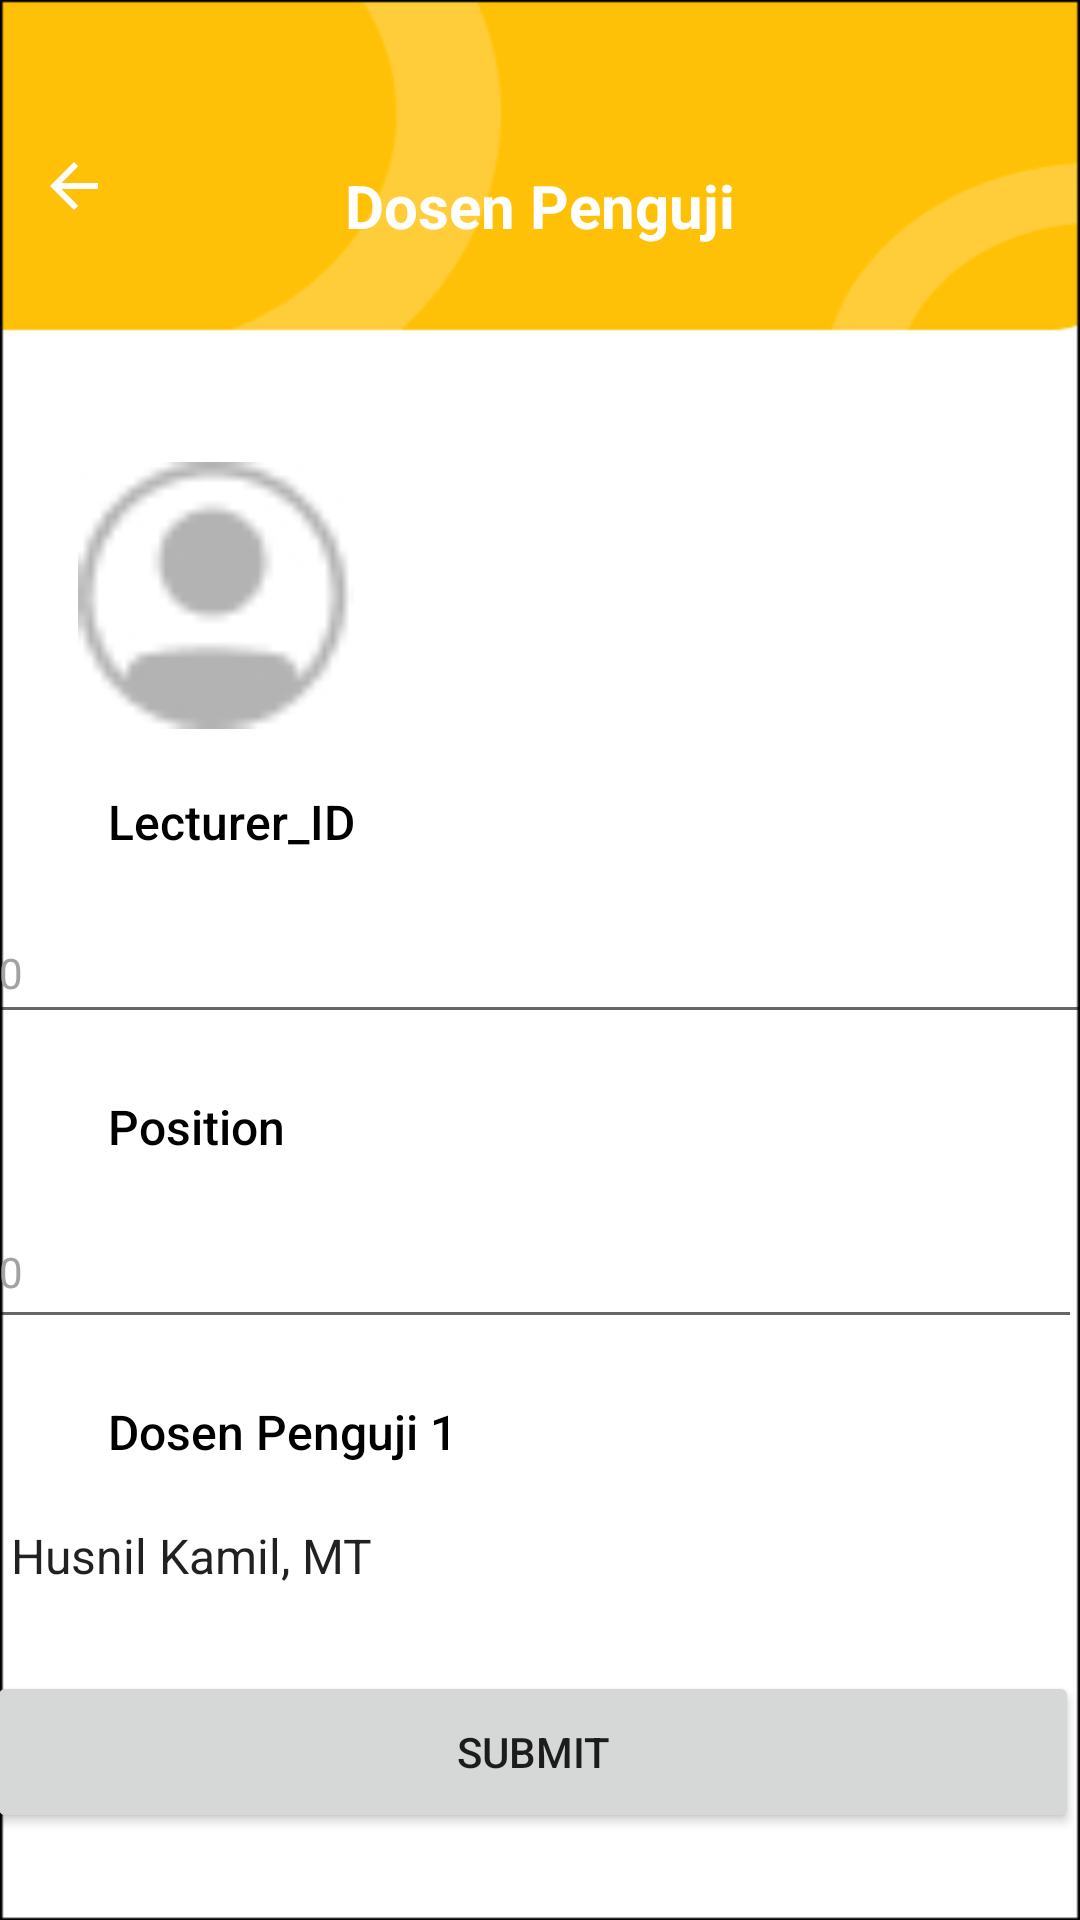

Where to tap for icons on this 1080x1920 app screen, as [x,y]:
arrow left: [74,186]
profile: [212,595]
